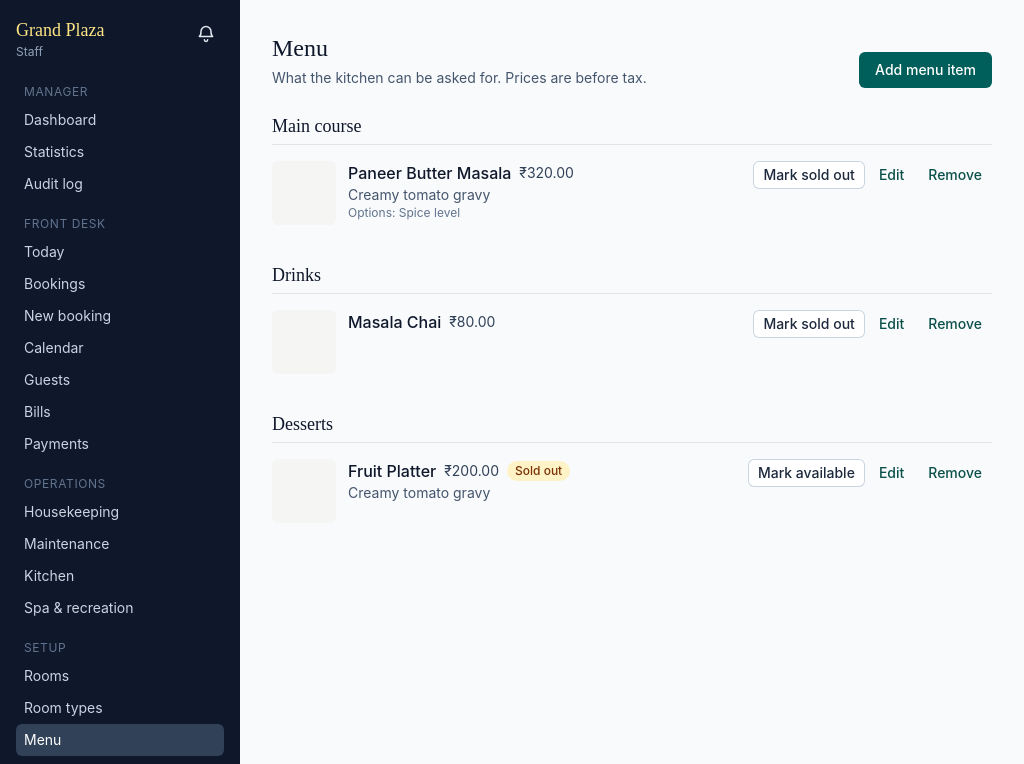
Test case: adding an item › explains a bad price and sends nothing
Click the button "Add menu item": {"x": 926, "y": 70} [859,52,992,88]
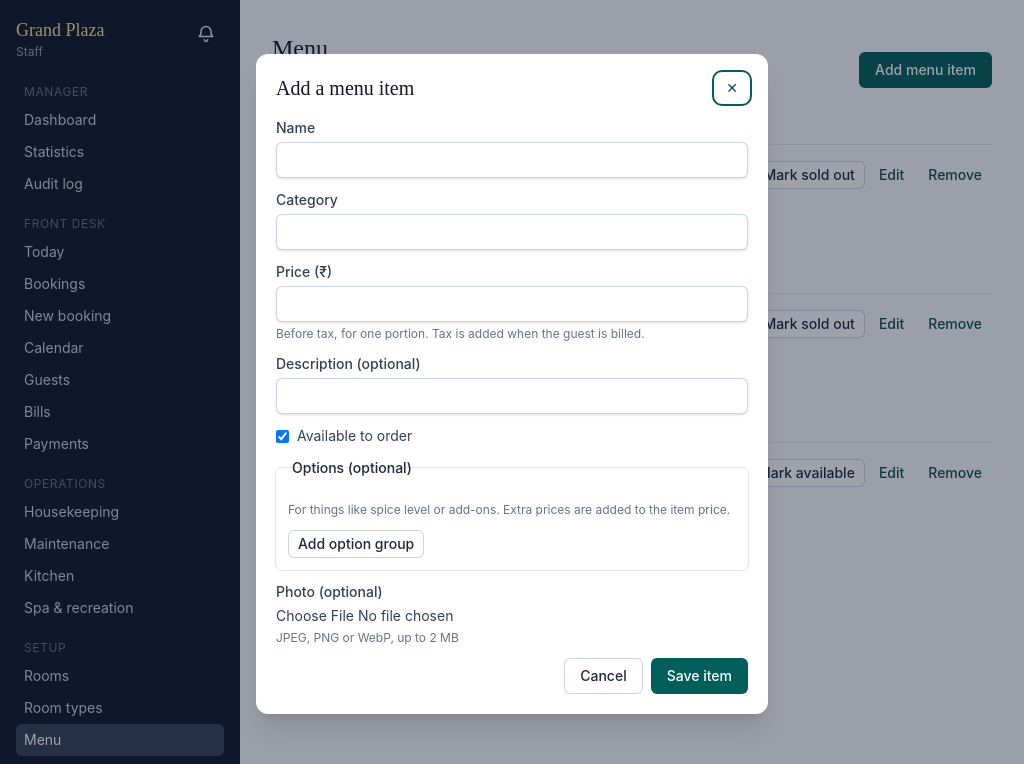
In the field labelled "Name": {"x": 512, "y": 160} [276,142,748,178], type "Paneer Tikka"
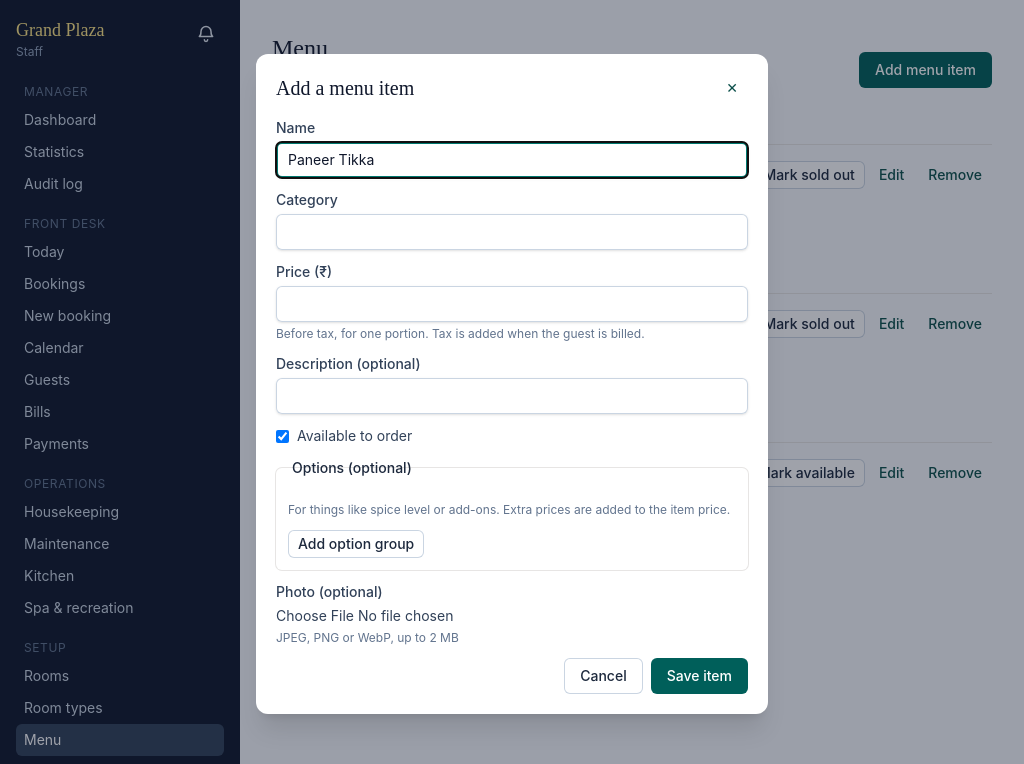
In the field labelled "Category": {"x": 512, "y": 232} [276,214,748,250], type "Starters"
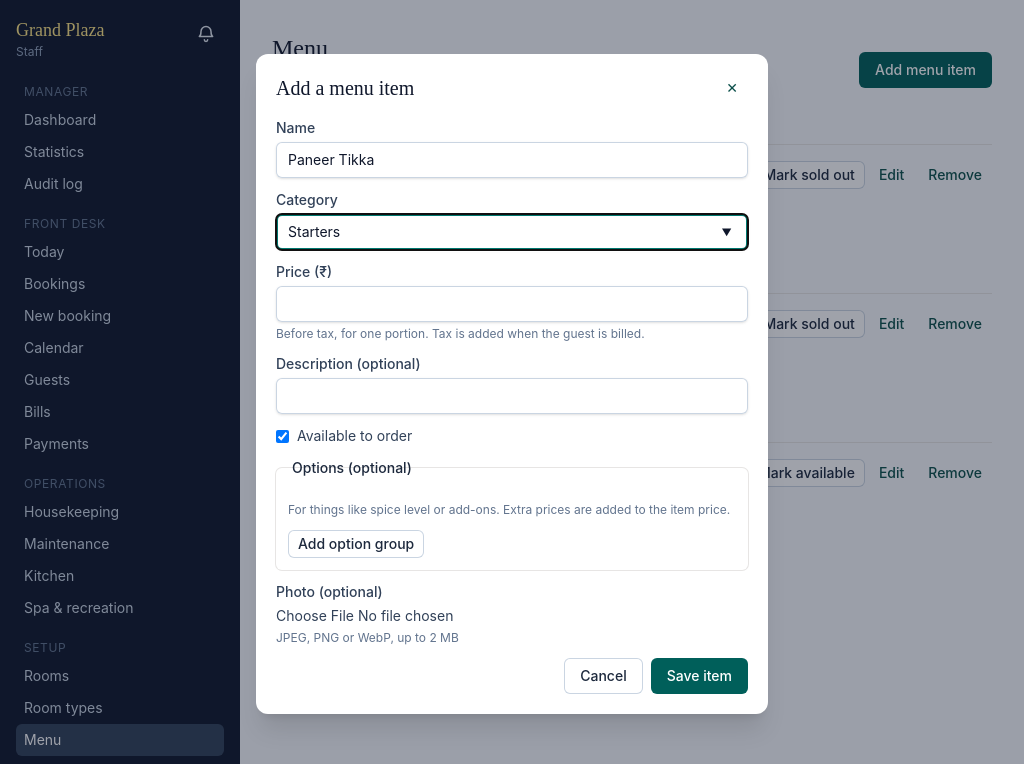
In the field labelled "Price (₹)": {"x": 512, "y": 304} [276,286,748,322], type "abc"
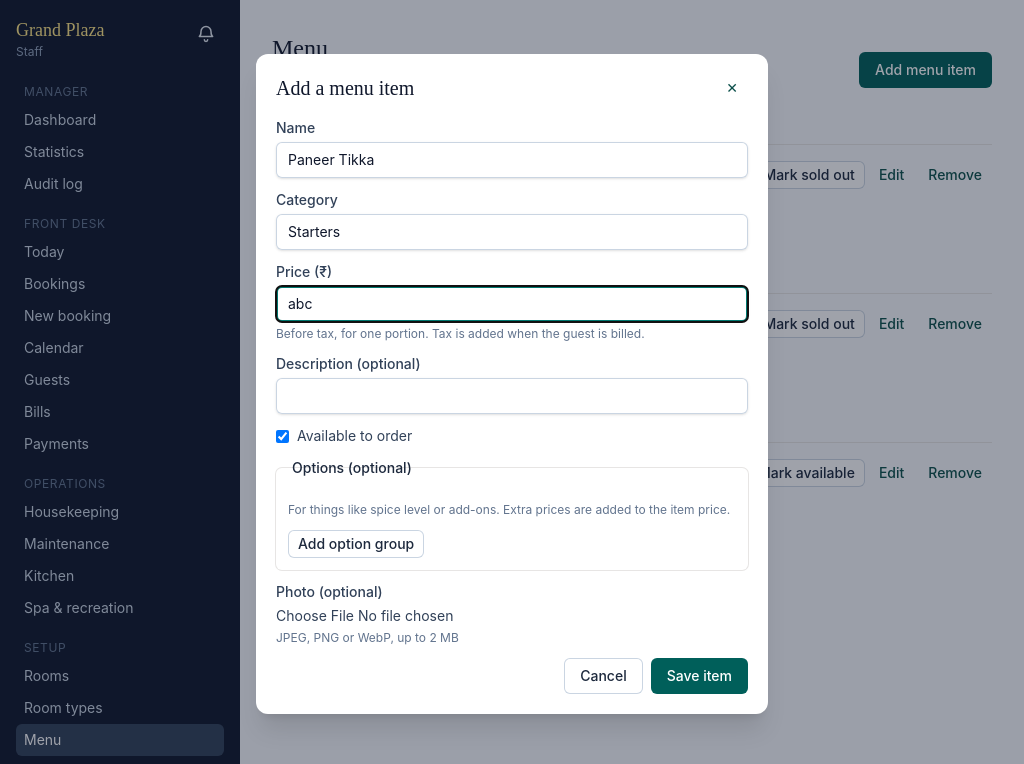
Click the button "Save item": {"x": 699, "y": 676} [651,658,748,694]
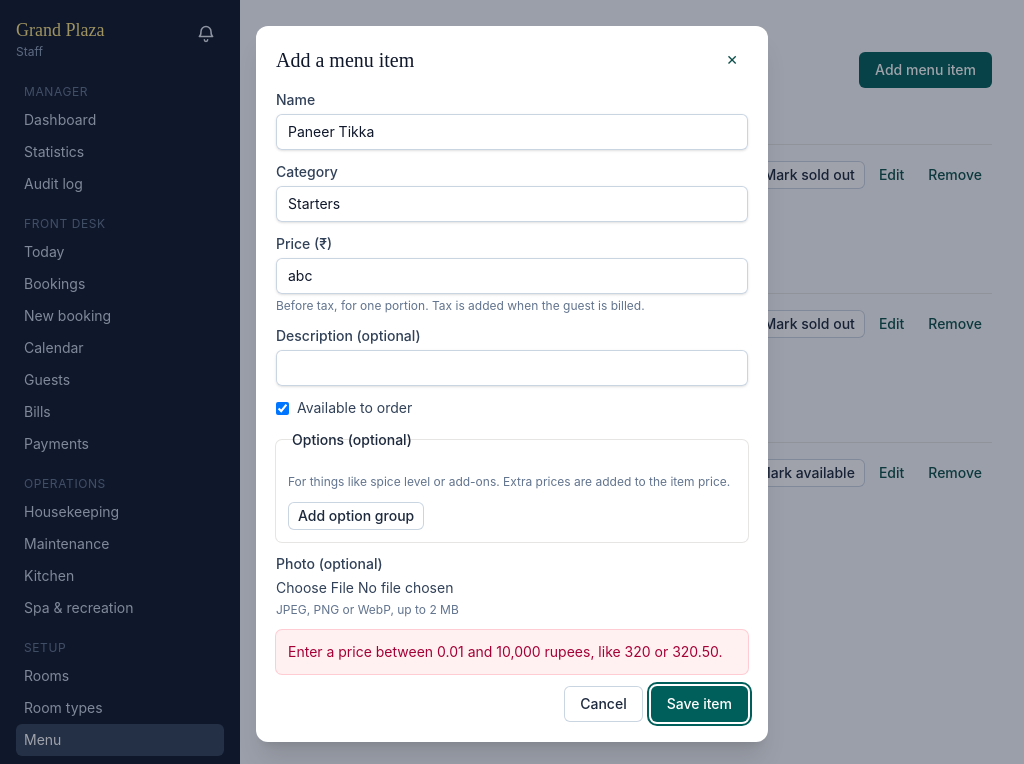
Check: the message shows "price", box [288,643,722,660]
